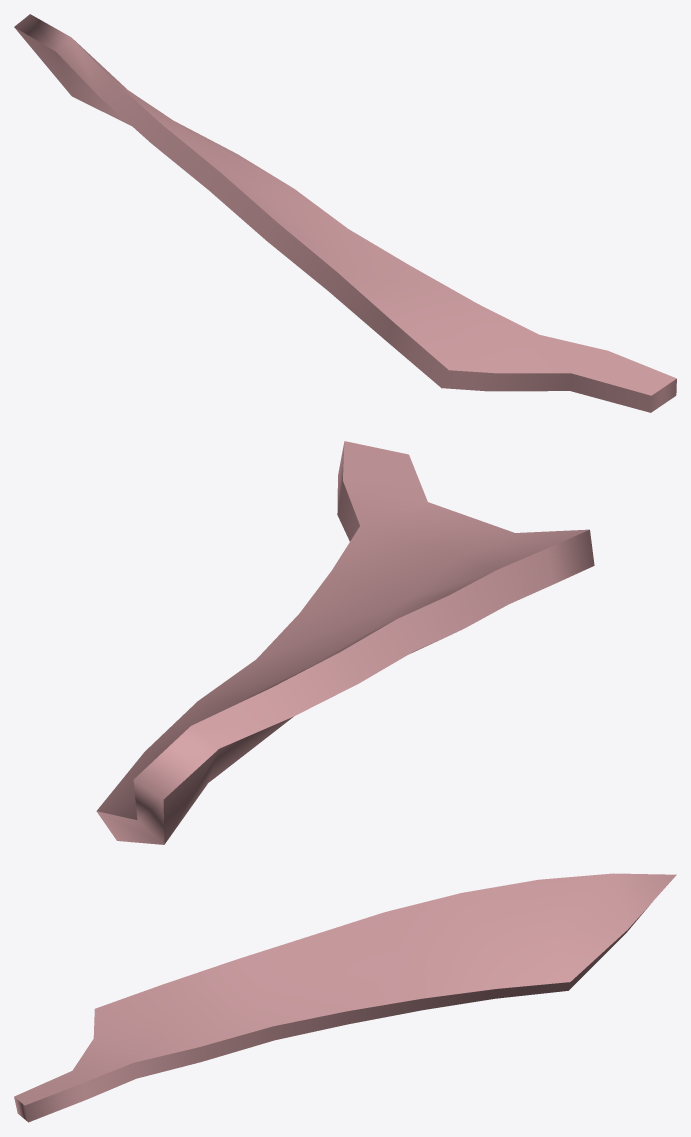
3 views of the same model, one above another, from view 1: azimuth 30°, elevation 25°; view 2: azimuth 150°, elevation 25°; view 3: azimuth 270°, elevation 25° (orthographic). The views are drawn at different scales.
Visible parts, largest first — view 1: ZA_90ff9bf77f28d386; view 2: ZA_90ff9bf77f28d386; view 3: ZA_90ff9bf77f28d386.
Boxes of the visible parts, x1,y1,x2,y2 form: ZA_90ff9bf77f28d386: [14, 14, 676, 412]; ZA_90ff9bf77f28d386: [96, 441, 594, 844]; ZA_90ff9bf77f28d386: [14, 873, 676, 1122].
Bounding box in the file's own units: 0.0447 × 0.0265 × 0.1086.
